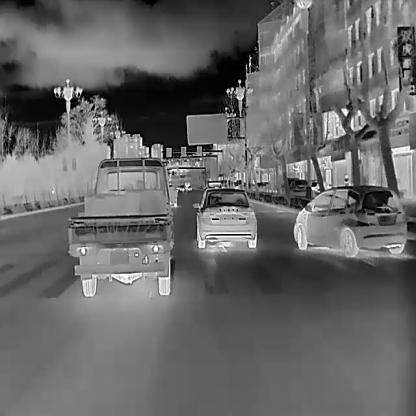car: (66, 154, 175, 295), (292, 184, 407, 256), (192, 184, 257, 247), (202, 180, 222, 195), (167, 183, 177, 207), (342, 173, 350, 185), (184, 181, 189, 190), (187, 185, 191, 190)
